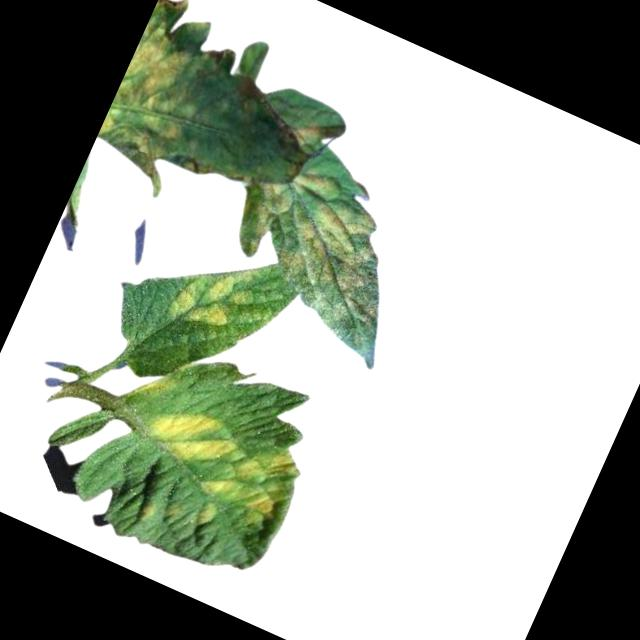Leaf_Mold: (221, 152, 398, 318), (96, 1, 234, 172), (193, 422, 308, 537), (135, 390, 245, 479), (164, 245, 262, 343), (287, 115, 324, 150), (133, 493, 162, 524), (193, 499, 218, 530)
